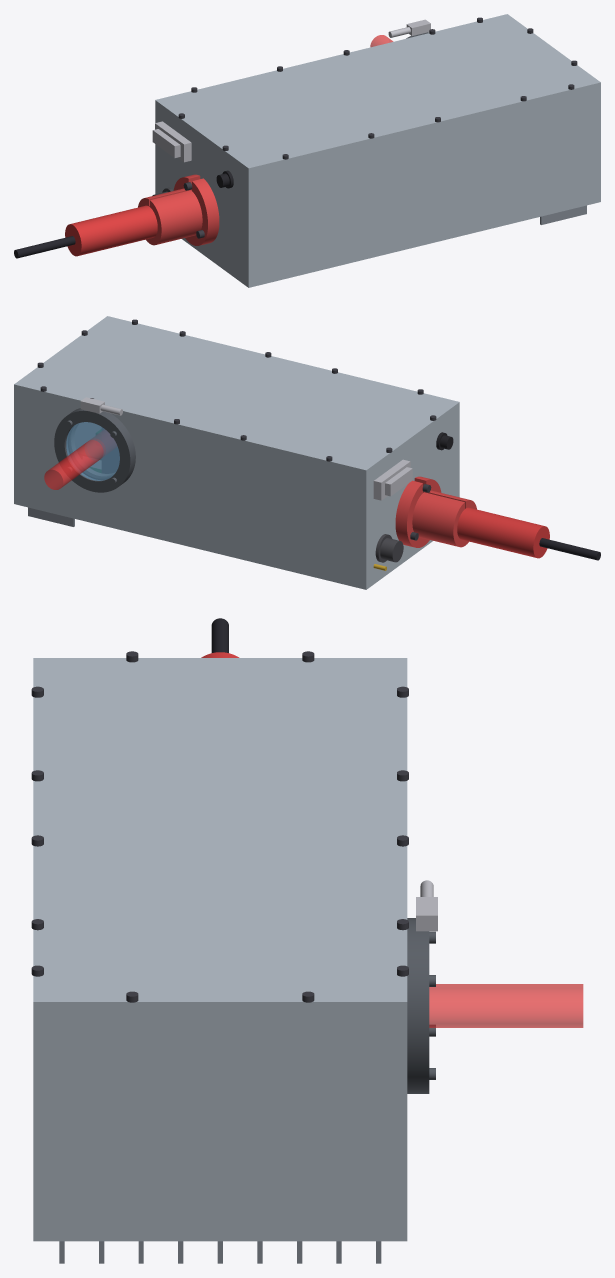
Rendered from focus_head_v0.4.glb.
The picture shows the model from 3 angles, top to bottom: view 1: azimuth 30°, elevation 25°; view 2: azimuth 150°, elevation 25°; view 3: azimuth 270°, elevation 25°; orthographic projection. The views are drawn at different scales.
Visible parts, largest first — view 1: H01_Base, H02_Lid, I01_Collimator, I04_Clamp, I03_TiltFlange, E02_DB25, I02_FiberCable, H03_LidScrews, W04_AirKnife, H07_HeatSink; view 2: H01_Base, H02_Lid, W01_WinFrame, I01_Collimator, W02_Window, I04_Clamp, R05_BeamOut, I03_TiltFlange, E02_DB25, E03_PowerConn, I02_FiberCable, H03_LidScrews (+2 smaller); view 3: H02_Lid, H01_Base, R05_BeamOut, W01_WinFrame, H03_LidScrews, H07_HeatSink, W04_AirKnife.
Boxes of the visible parts, x1,y1,x2,y2 form: H01_Base: (155,88,600,287); H02_Lid: (155,14,600,174); I01_Collimator: (65,205,157,256); I04_Clamp: (138,188,202,245); I03_TiltFlange: (173,174,219,245); E02_DB25: (152,121,191,162); I02_FiberCable: (14,236,75,258); H03_LidScrews: (178,17,577,159); W04_AirKnife: (388,19,430,37); H07_HeatSink: (540,205,586,224); H01_Base: (14,390,459,589); H02_Lid: (14,316,459,476); W01_WinFrame: (54,408,135,492); I01_Collimator: (457,507,549,558); W02_Window: (66,422,119,480); I04_Clamp: (412,490,476,547); R05_BeamOut: (44,438,105,489); I03_TiltFlange: (395,476,441,547); E02_DB25: (373,459,412,500); E03_PowerConn: (375,534,403,562); I02_FiberCable: (539,538,600,560); H03_LidScrews: (37,319,436,461); H02_Lid: (33,658,407,1013); H01_Base: (33,1014,407,1241); R05_BeamOut: (429,984,583,1027); W01_WinFrame: (407,918,435,1093); H03_LidScrews: (31,651,408,1002); H07_HeatSink: (59,1241,381,1263); W04_AirKnife: (416,880,437,931).
Size of the model in its own units: 566 by 142 by 251.
